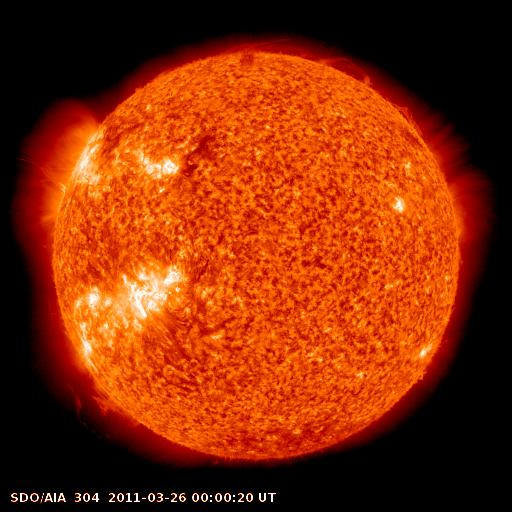prominence: (51, 373, 145, 437), (217, 32, 314, 81), (317, 44, 375, 88), (388, 100, 428, 139)
